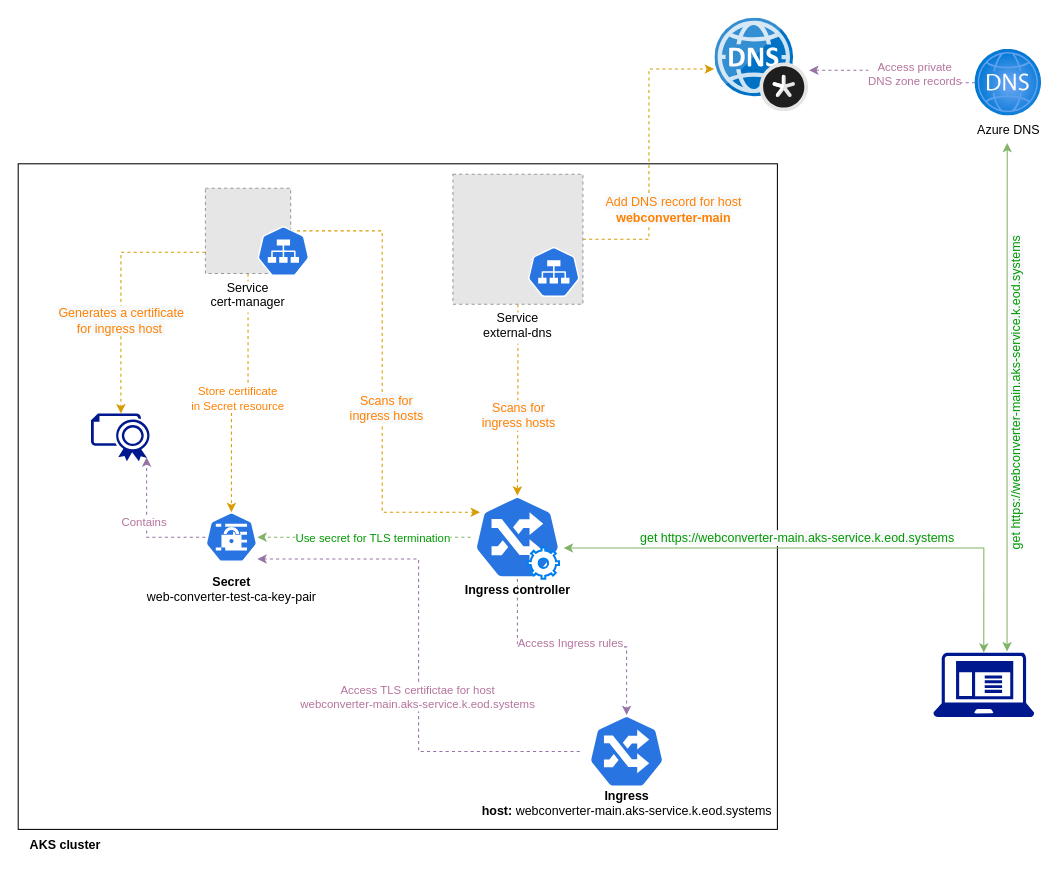
Image size: 1060x878. Some labels were removed from this diagram. Grey dashed boxes stand in for pictures. Here are the shapes that lost their labels. From the top down, the centre of each, then its label:
At [761,64]: "Private DNS zone aks-service.k.eod.systems".
At [120,437]: "Certificate web-converter-test-ca-key-pair".
At [983,684]: "Client App".
